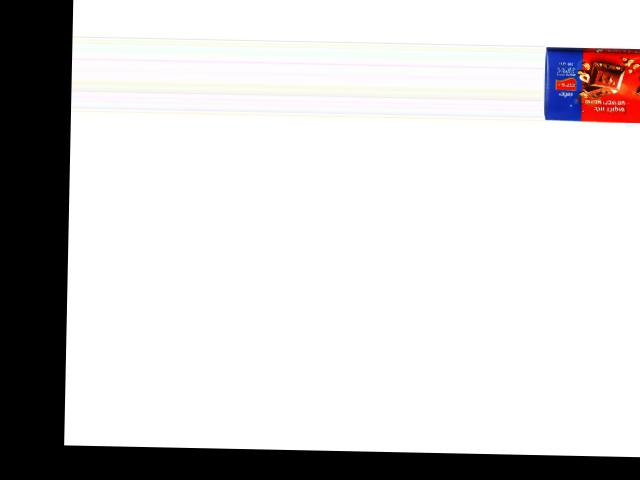chocolate: (544, 47, 640, 123)
